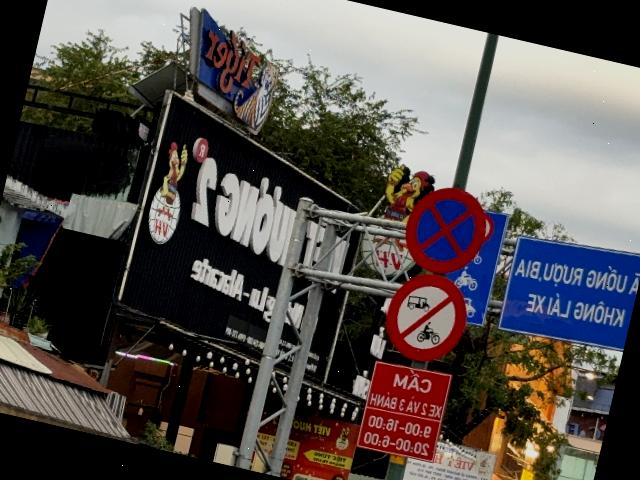cam-dung-va-do-xe: (396, 177, 494, 281)
cam-xe-2-banh-3-banh: (377, 264, 475, 370)
